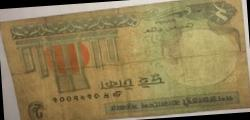2 taka: (1, 21, 245, 115)
